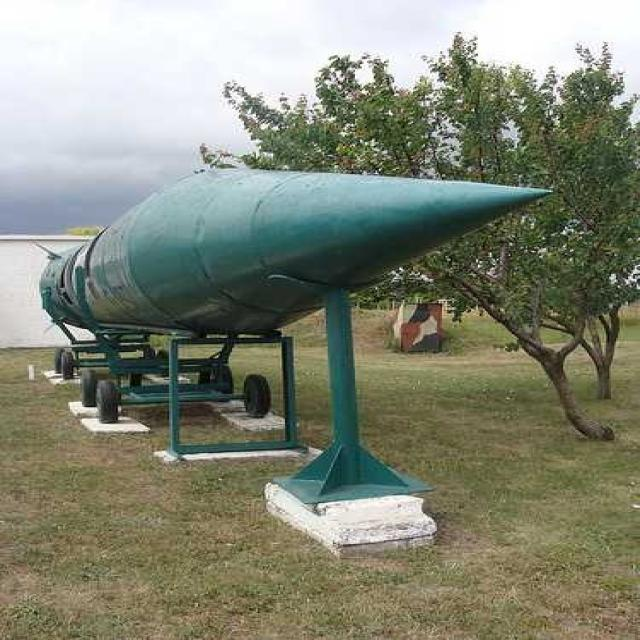missile: (28, 172, 550, 354)
